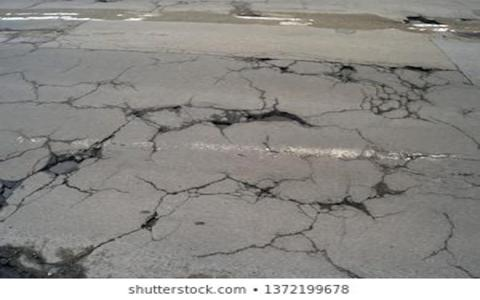patchy roads: (50, 75, 374, 232)
